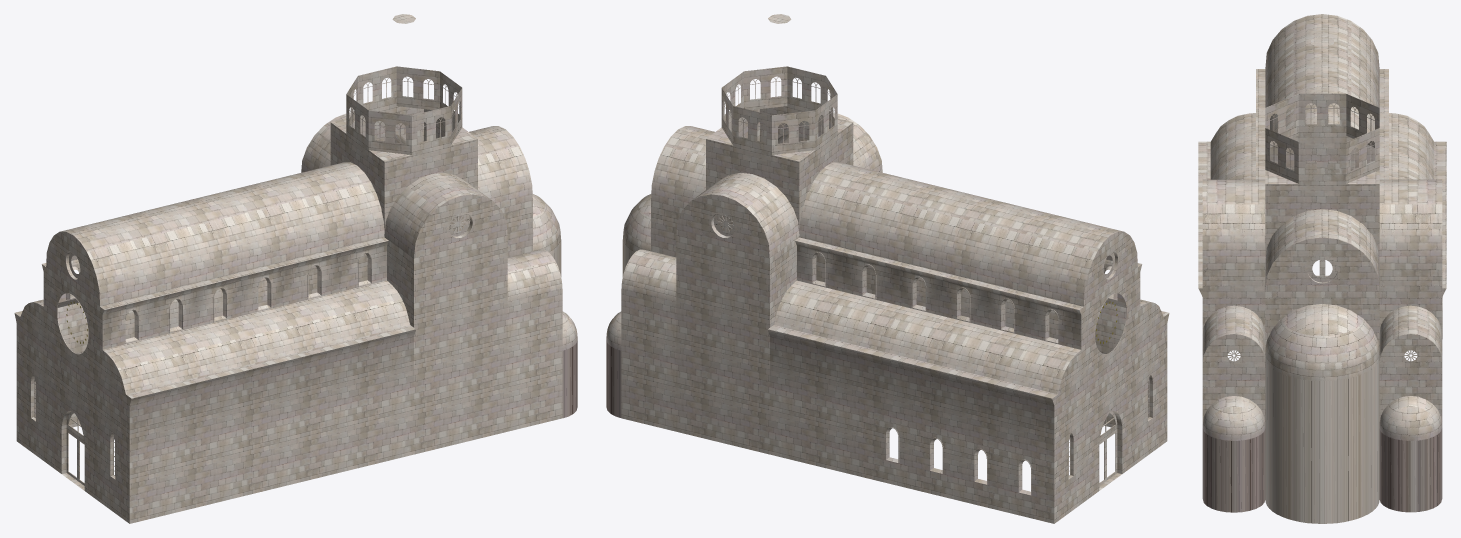
Rendered from sibenikTest.FBX.
The picture shows the model from 3 angles, left to right: view 1: azimuth 30°, elevation 25°; view 2: azimuth 150°, elevation 25°; view 3: azimuth 270°, elevation 25°; orthographic projection. The views are drawn at different scales.
Visible parts, largest first — view 1: Object009; view 2: Object009; view 3: Object009.
Part boxes in pixels (x1=…): Object009: x1=14, y1=14, x2=577, y2=523; Object009: x1=606, y1=14, x2=1169, y2=523; Object009: x1=1198, y1=14, x2=1446, y2=523.
Bounding box in the file's own units: 40.28 × 30.61 × 16.99.
